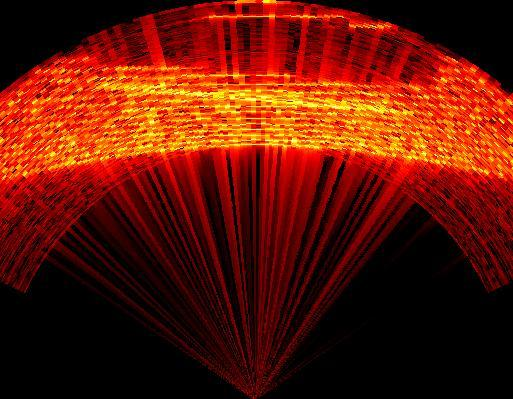pipe: (60, 4, 459, 84)
